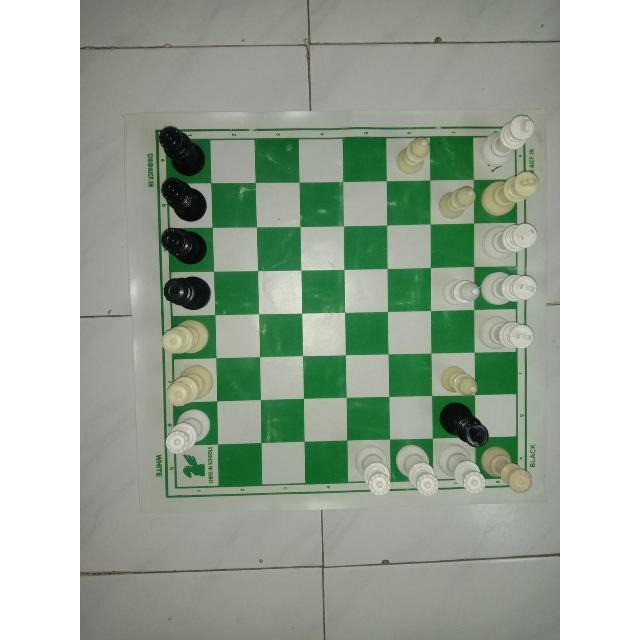black-king: (436, 398, 492, 446)
black-queen: (158, 123, 208, 177), (158, 177, 210, 225), (158, 224, 212, 268), (161, 274, 214, 314)
white-bishop: (391, 135, 433, 175), (434, 185, 476, 223), (438, 274, 480, 312), (437, 363, 479, 401)
white-king: (477, 112, 537, 170), (481, 167, 543, 219), (480, 221, 540, 265), (477, 312, 538, 353), (481, 270, 539, 312)
white-queen: (438, 439, 488, 499), (479, 443, 534, 495), (394, 442, 444, 499), (350, 442, 393, 500), (162, 362, 216, 408), (165, 407, 213, 456), (158, 316, 210, 356)
